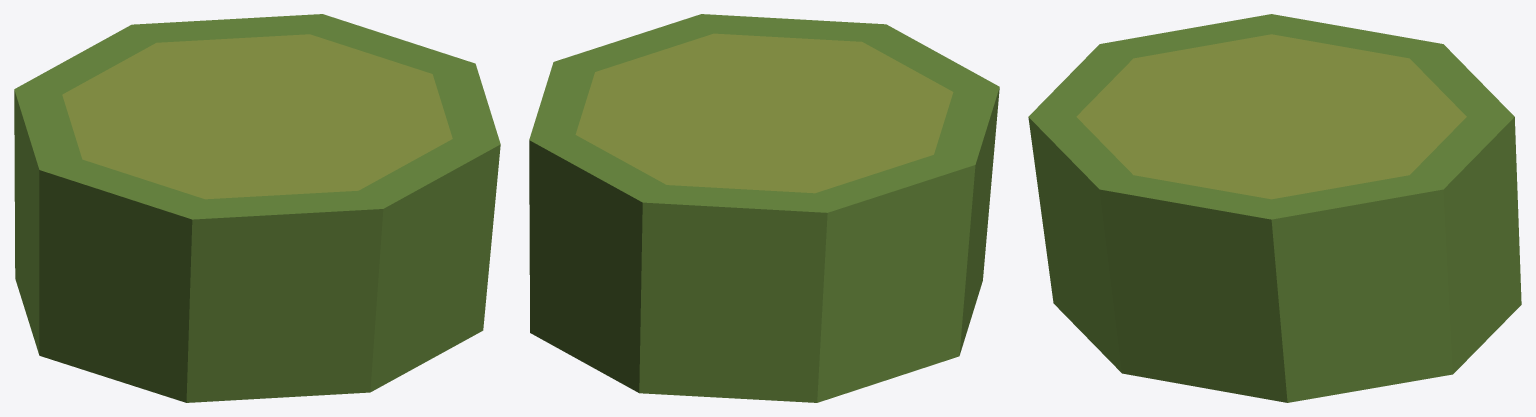
Rendered from cactus_stump.fbx.
3 renders of one model, left to right at view 1: azimuth 30°, elevation 25°; view 2: azimuth 150°, elevation 25°; view 3: azimuth 270°, elevation 25°, orthographic. The views are drawn at different scales.
Visible parts, largest first — view 1: right_1; view 2: right_1; view 3: right_1.
Boxes of the visible parts, <box> form: right_1: <box>14,14,500,402</box>; right_1: <box>529,14,999,402</box>; right_1: <box>1028,14,1521,402</box>.
Size of the model in its own units: 47.09 by 20.07 by 47.74.
